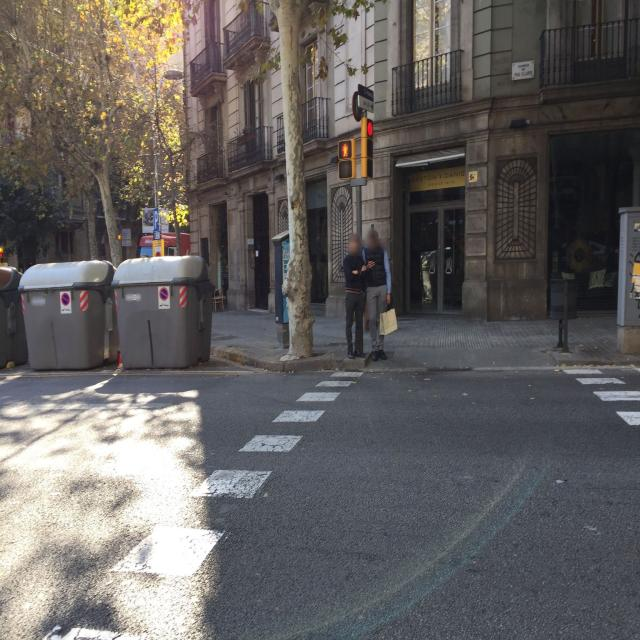forb_stopping: (159, 287, 168, 301), (61, 293, 70, 307)
